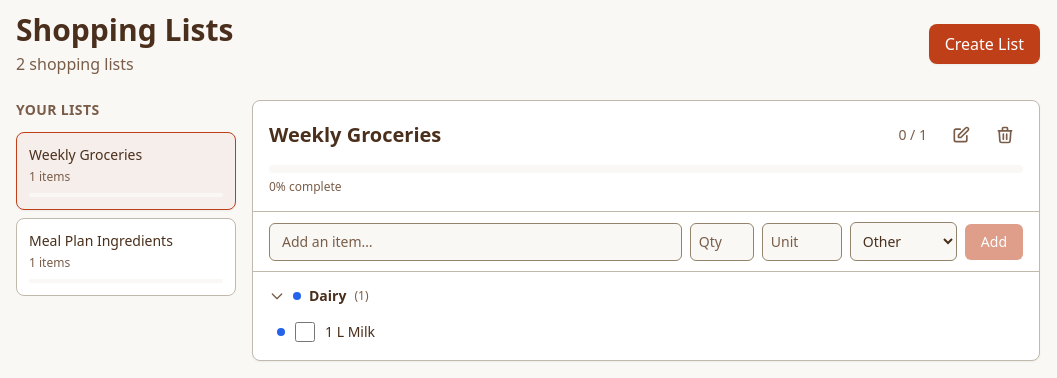
Test: ShoppingListsPage /shopping-lists/:id routing (issue #54) › keeps the URL in sync when picking another list in the sidebar
The image size is (1057, 378).
Expected: the text "1 L Milk" is shown, [325,322,375,341]
Click the button with aria-label "Select Meal Plan Ingredients" at (126, 257), box [29,231,223,283]
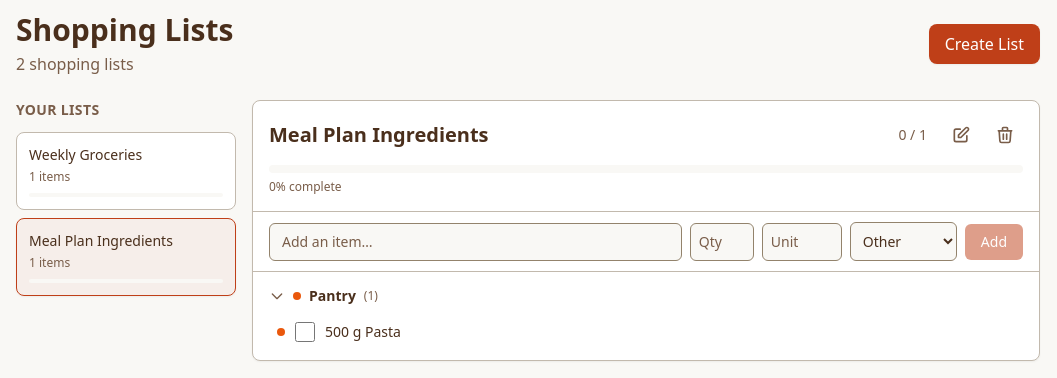
Now the text "500 g Pasta" is shown, box [325,322,401,341]
